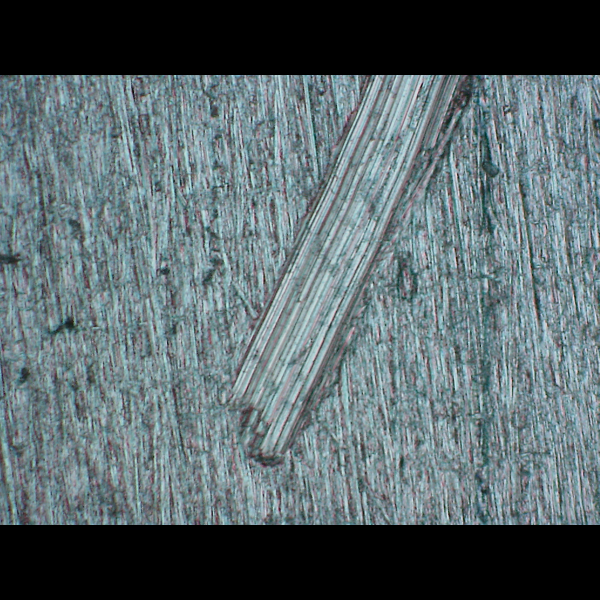d: (221, 75, 483, 475)
